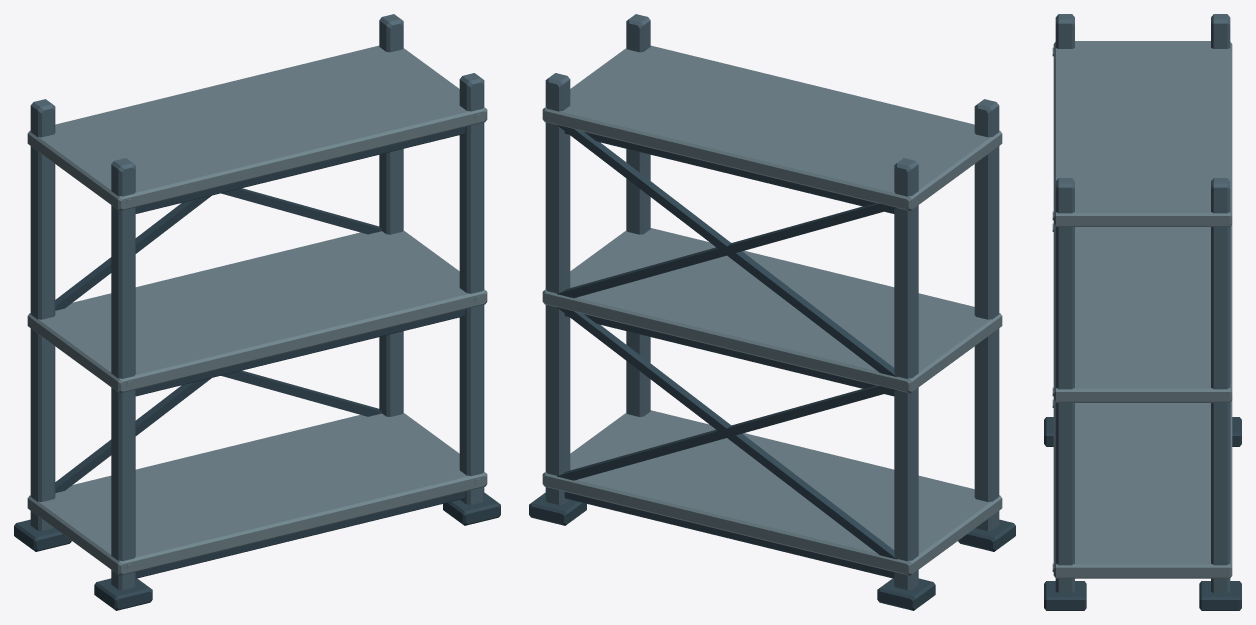
The model's file is 01_EmptyRack_2m.obj.
The picture shows the model from 3 angles, left to right: view 1: azimuth 30°, elevation 25°; view 2: azimuth 150°, elevation 25°; view 3: azimuth 270°, elevation 25°; orthographic projection. The views are drawn at different scales.
Size of the model in its own units: 2.22 by 2.4 by 1.02.
